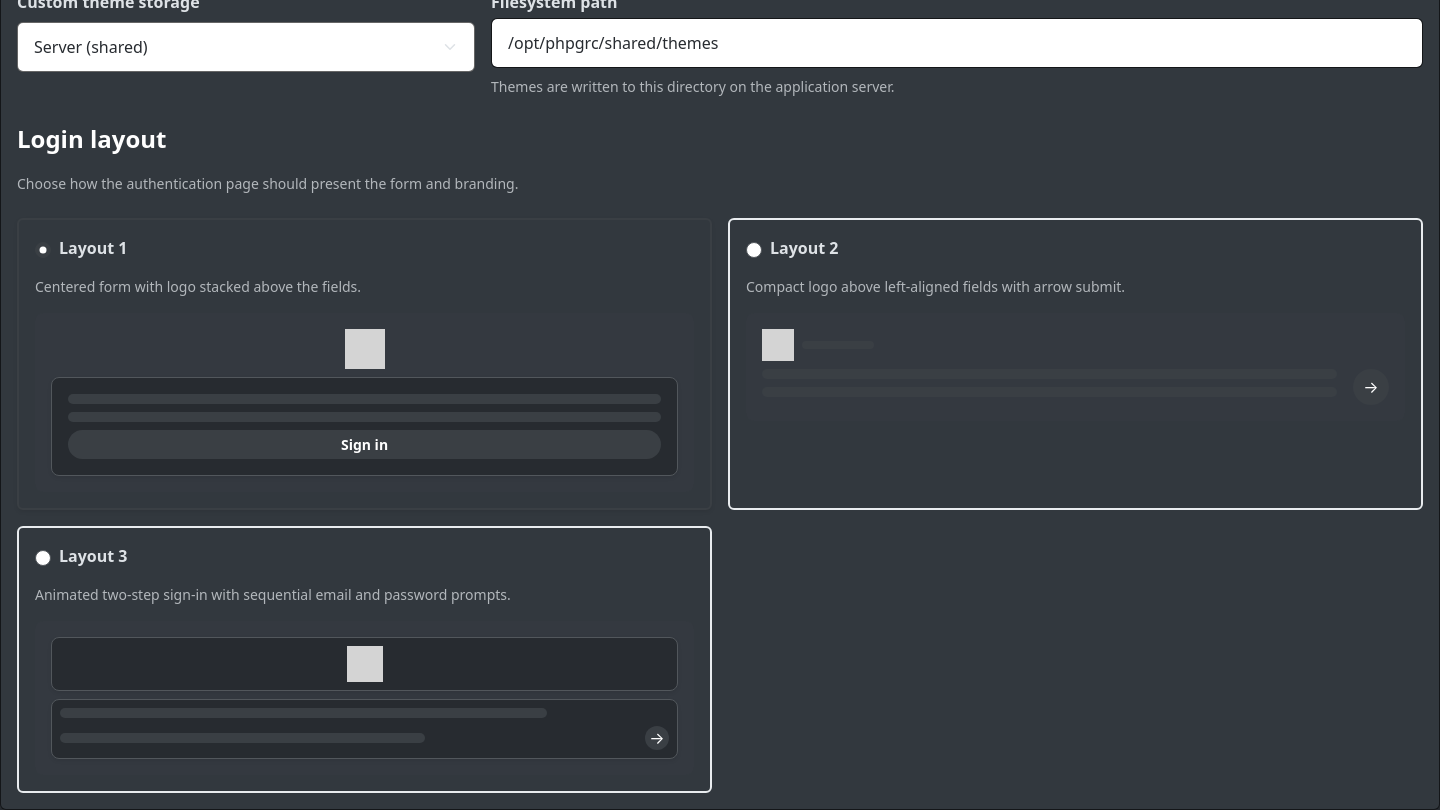
ThemeConfigurator › persists the selected login layout
(page scrolled)
Click the radio button labelled "Layout 3" at x=43, y=558, box x1=35 y1=550 x2=51 y2=566
(page scrolled)
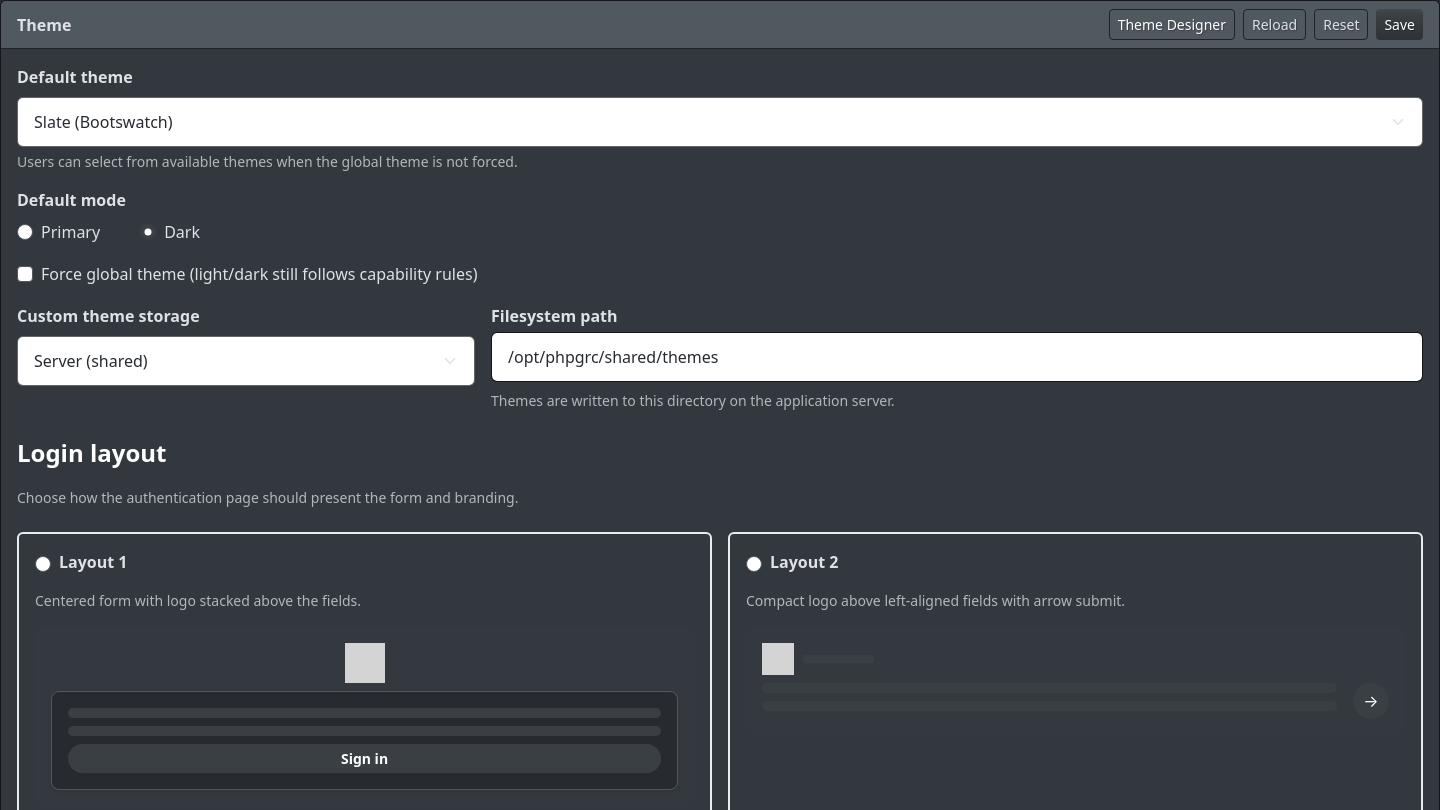
Click the button "Save" at x=1400, y=24, box x1=1376 y1=9 x2=1423 y2=40
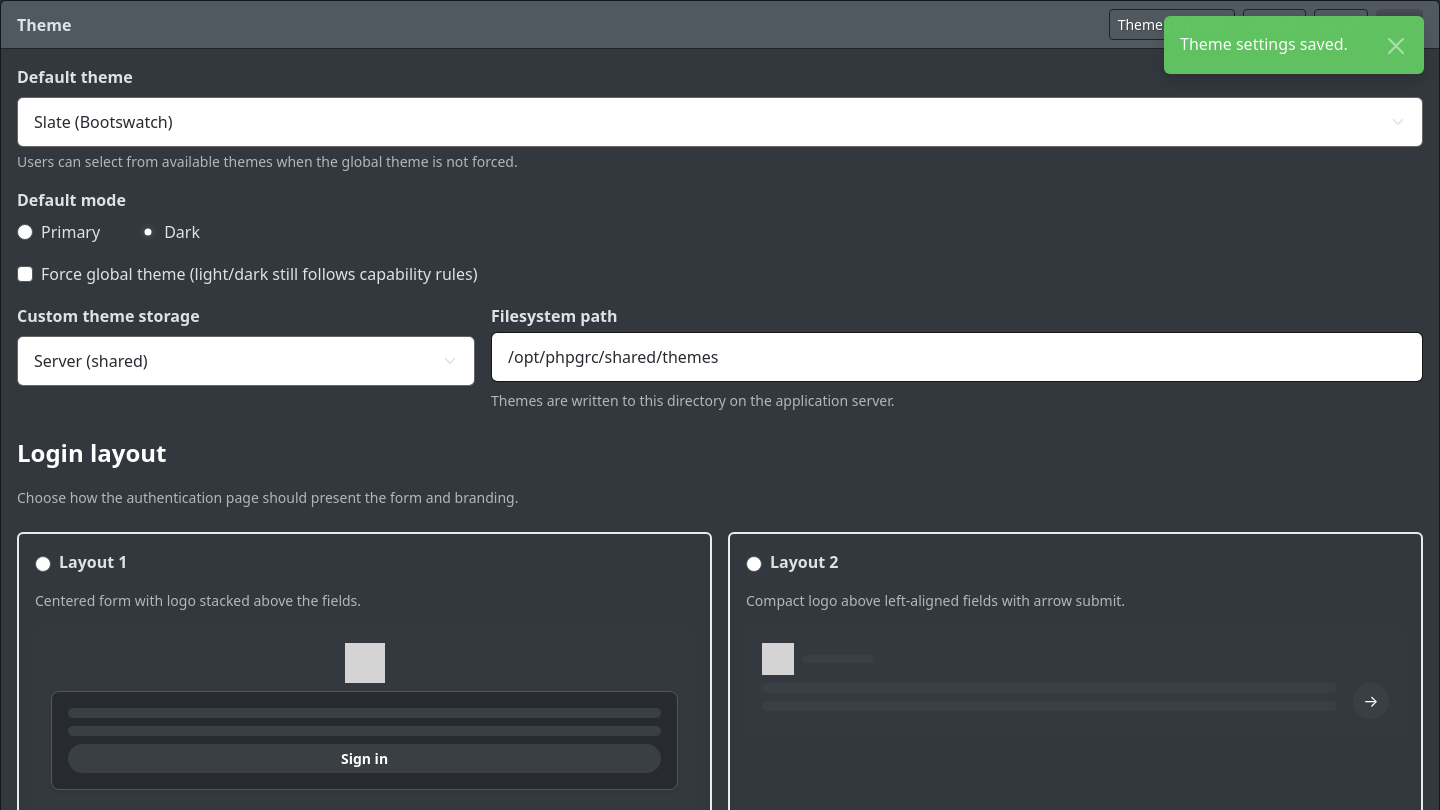
Expected: the text "Theme settings saved." is shown, x1=1180 y1=32 x2=1364 y2=56
